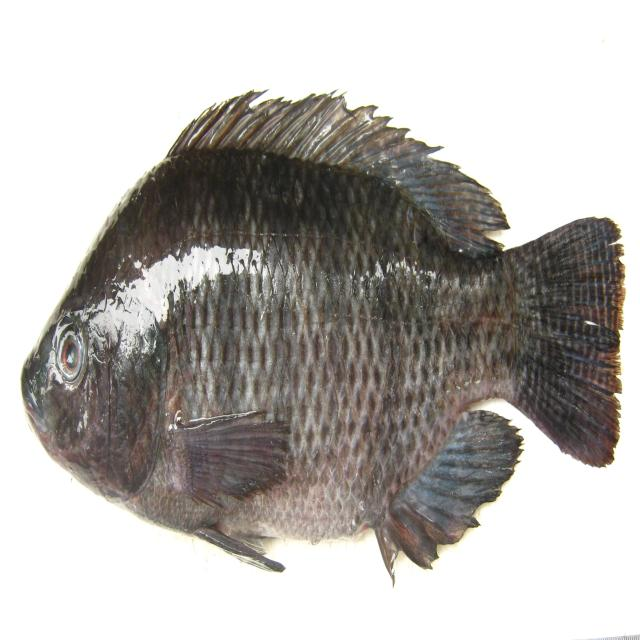ikan: (17, 59, 630, 590)
